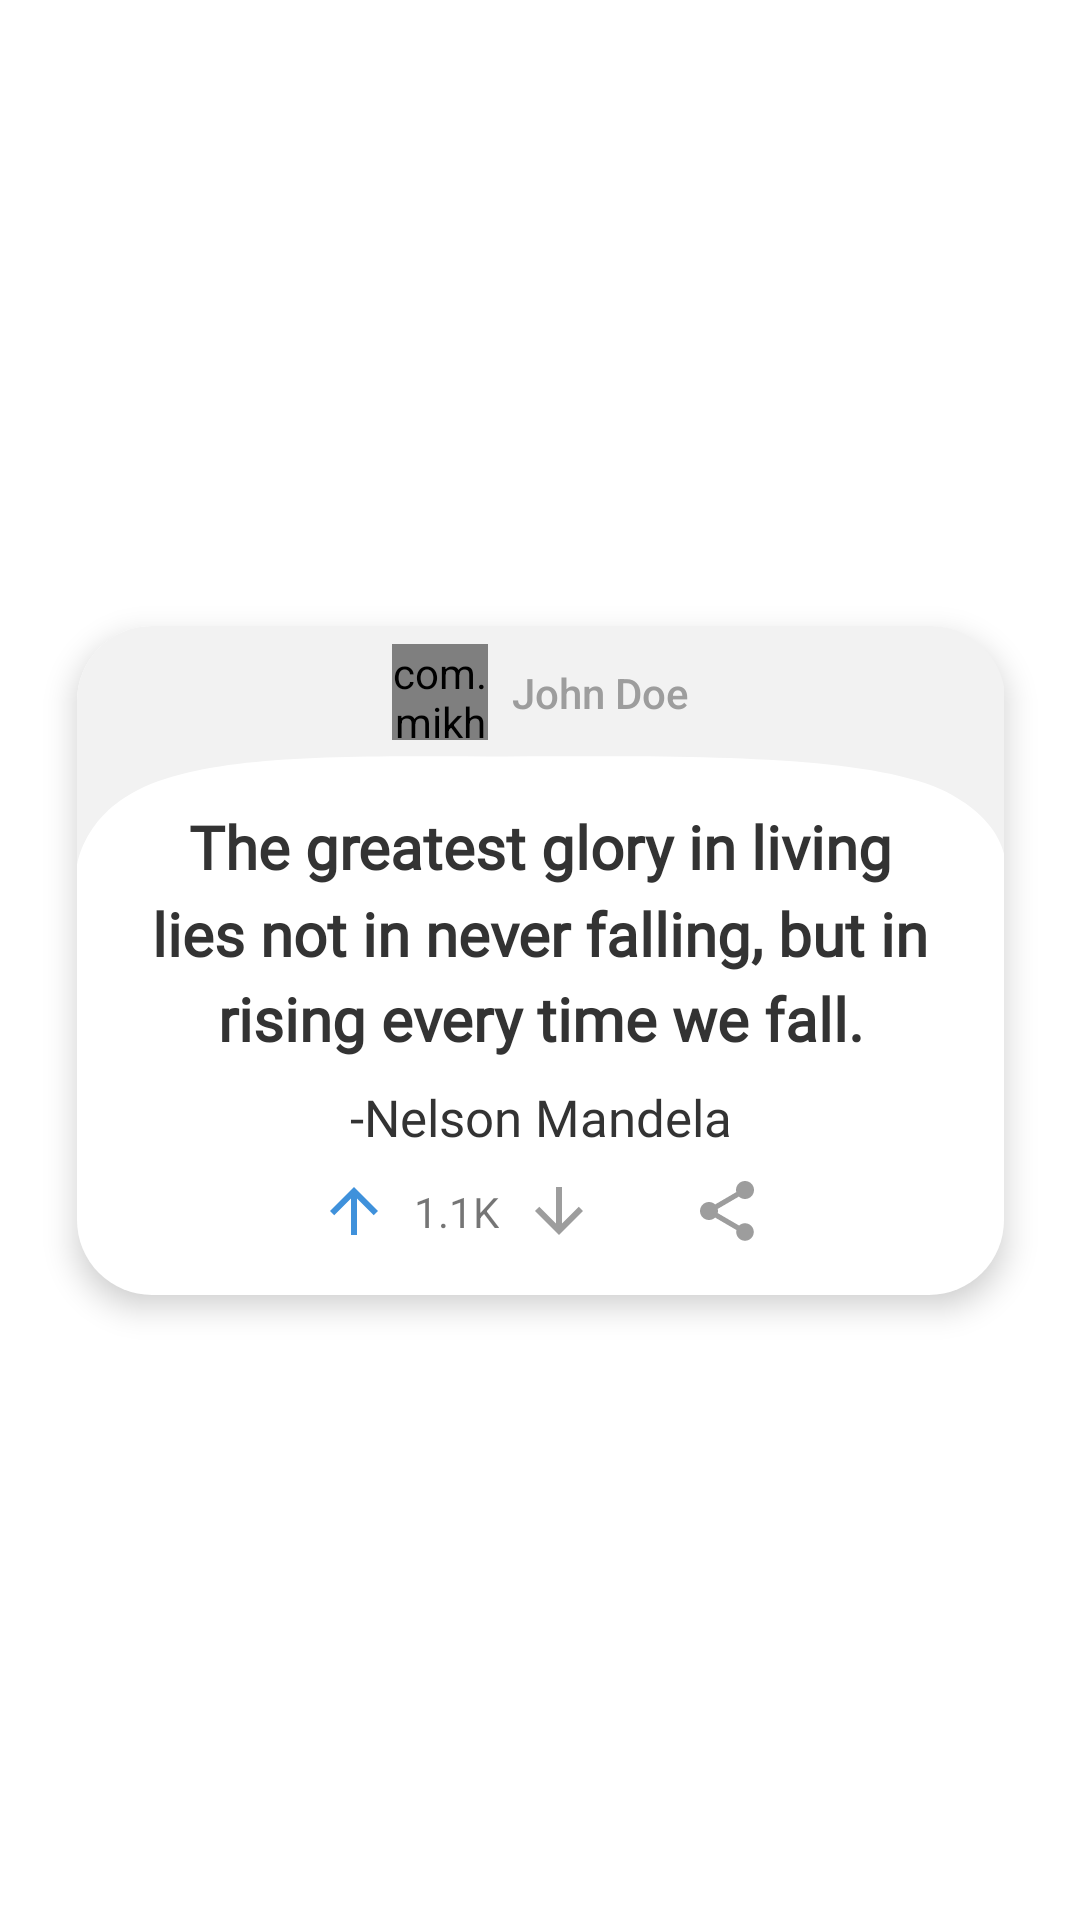

Icon click points for this 1080px x 1920px phone screenshot, format (x=x, y=y):
downvote: (x=559, y=1211)
share: (x=727, y=1211)
upvote: (x=354, y=1211)
